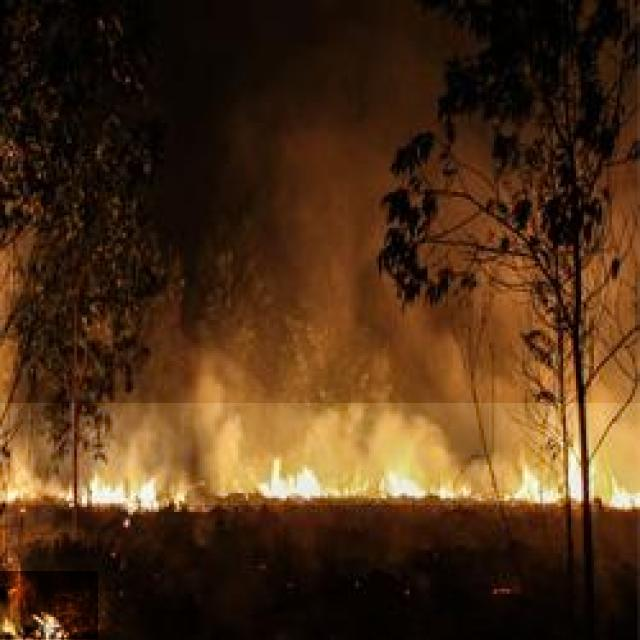Fire: (0, 404, 640, 506), (0, 571, 98, 639)
Smoke: (183, 10, 635, 388)
